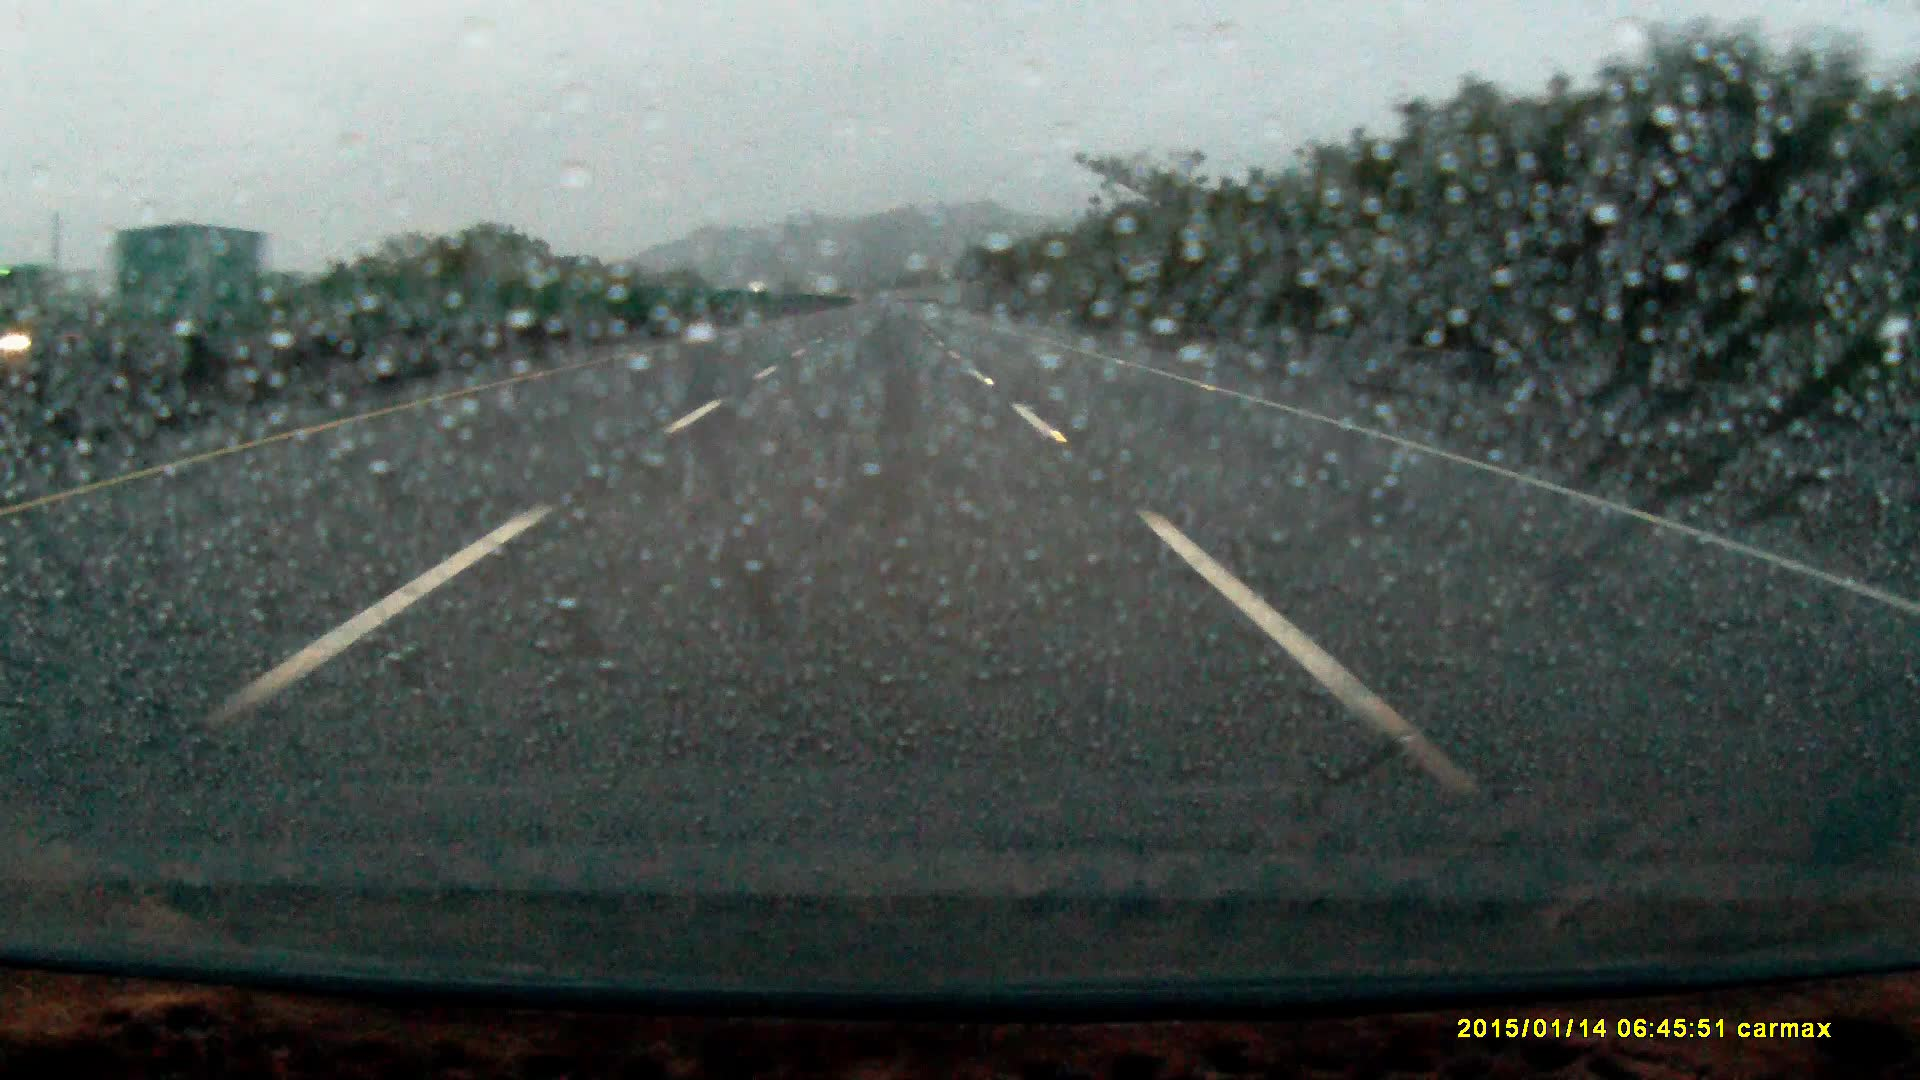vehicle: (9, 229, 293, 409)
